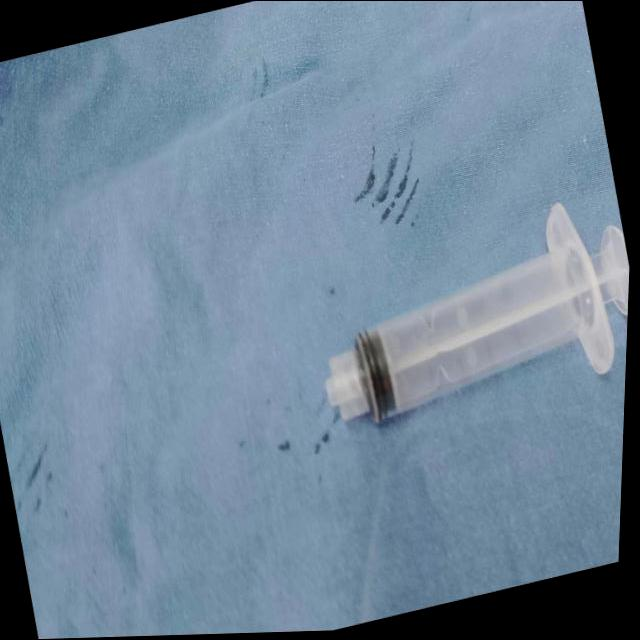Sharps: (322, 201, 628, 424)
